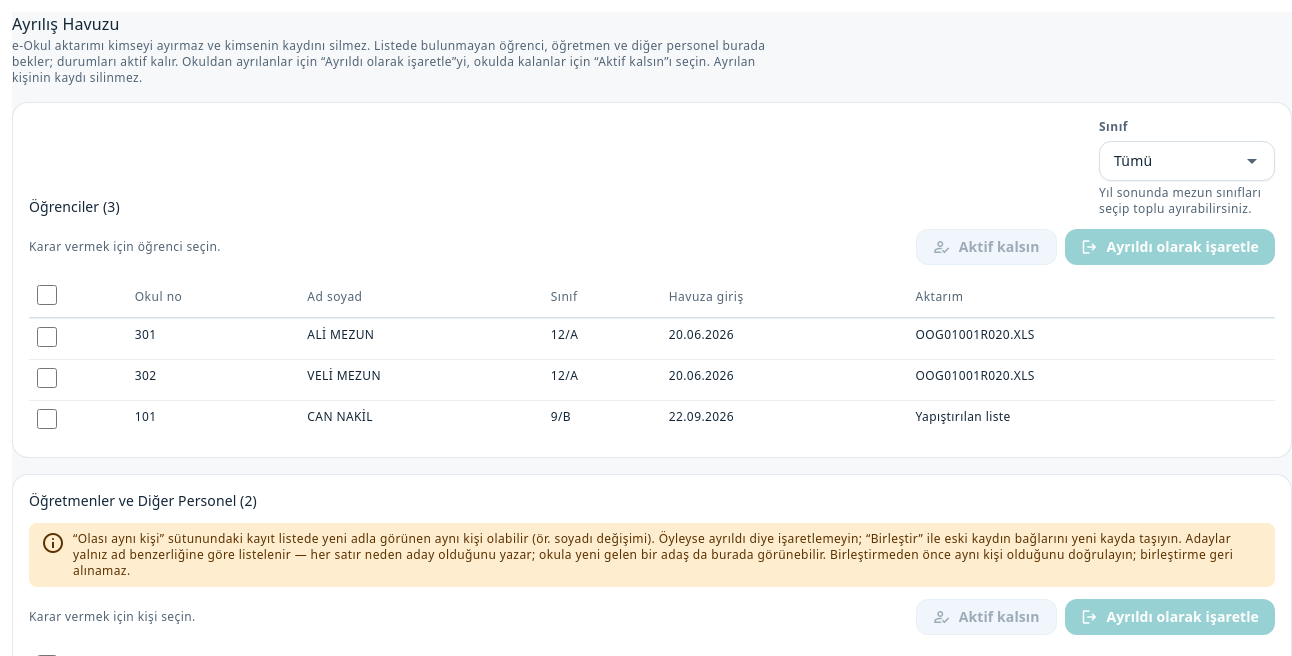
AyrilisHavuzu — karar › bayat seçim: backend reddi bantta gösterilir, liste yenilenir
Expected: the heading "Öğrenciler (3)" is shown, top-left (29, 197), bottom-right (120, 217)
Click the checkbox named "ALİ MEZUN seç": (47, 337) top-left (37, 327), bottom-right (57, 347)
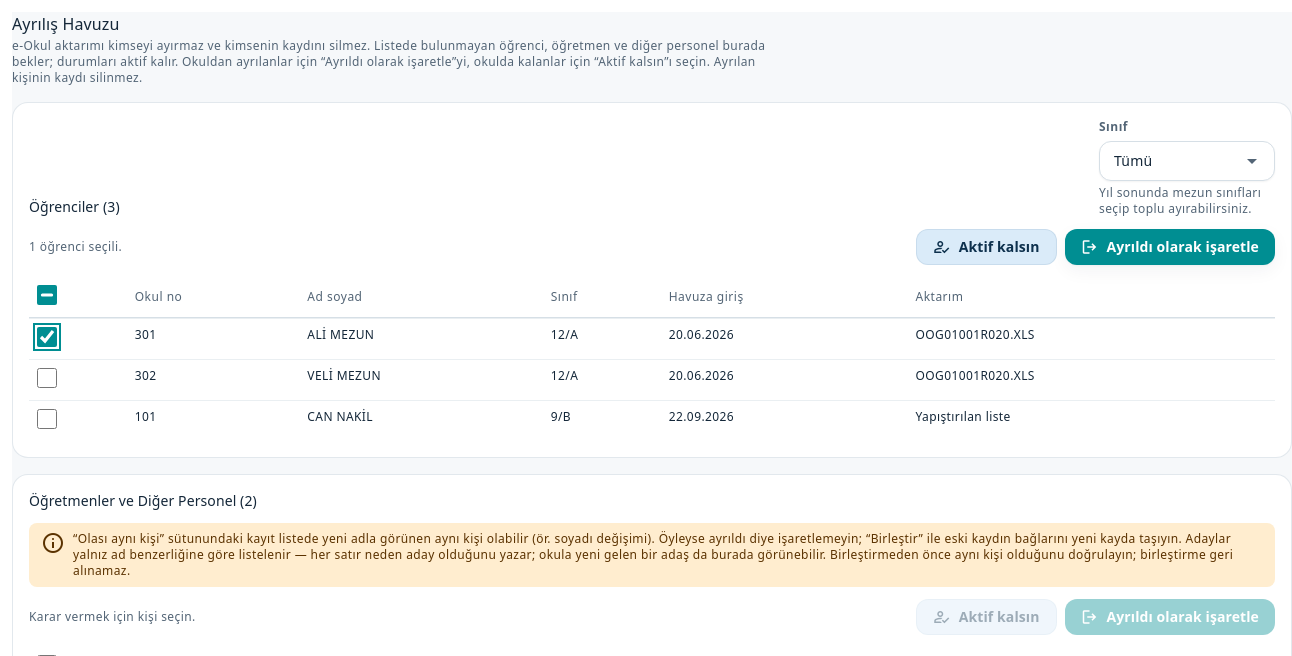
Click the button "Aktif kalsın" in the row of "1 öğrenci seçili.": (986, 247) top-left (916, 229), bottom-right (1056, 265)
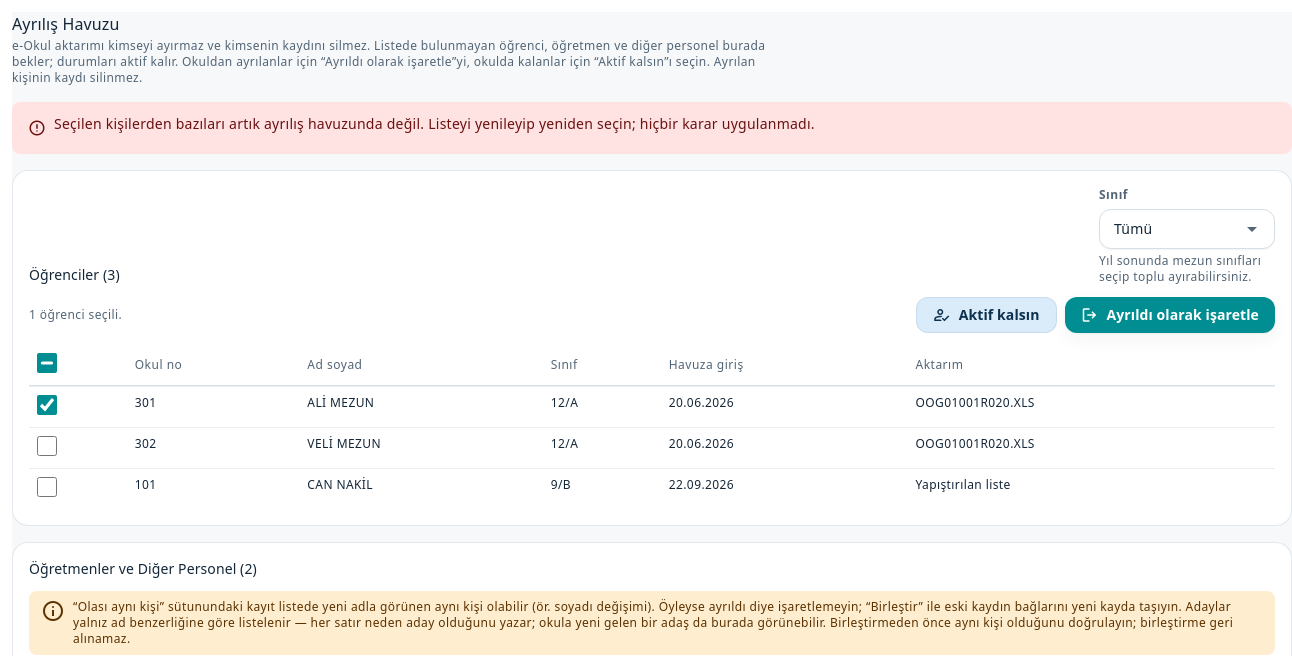
Result: the text "artık ayrılış havuzunda değil" is shown at top-left (54, 114), bottom-right (815, 133)
